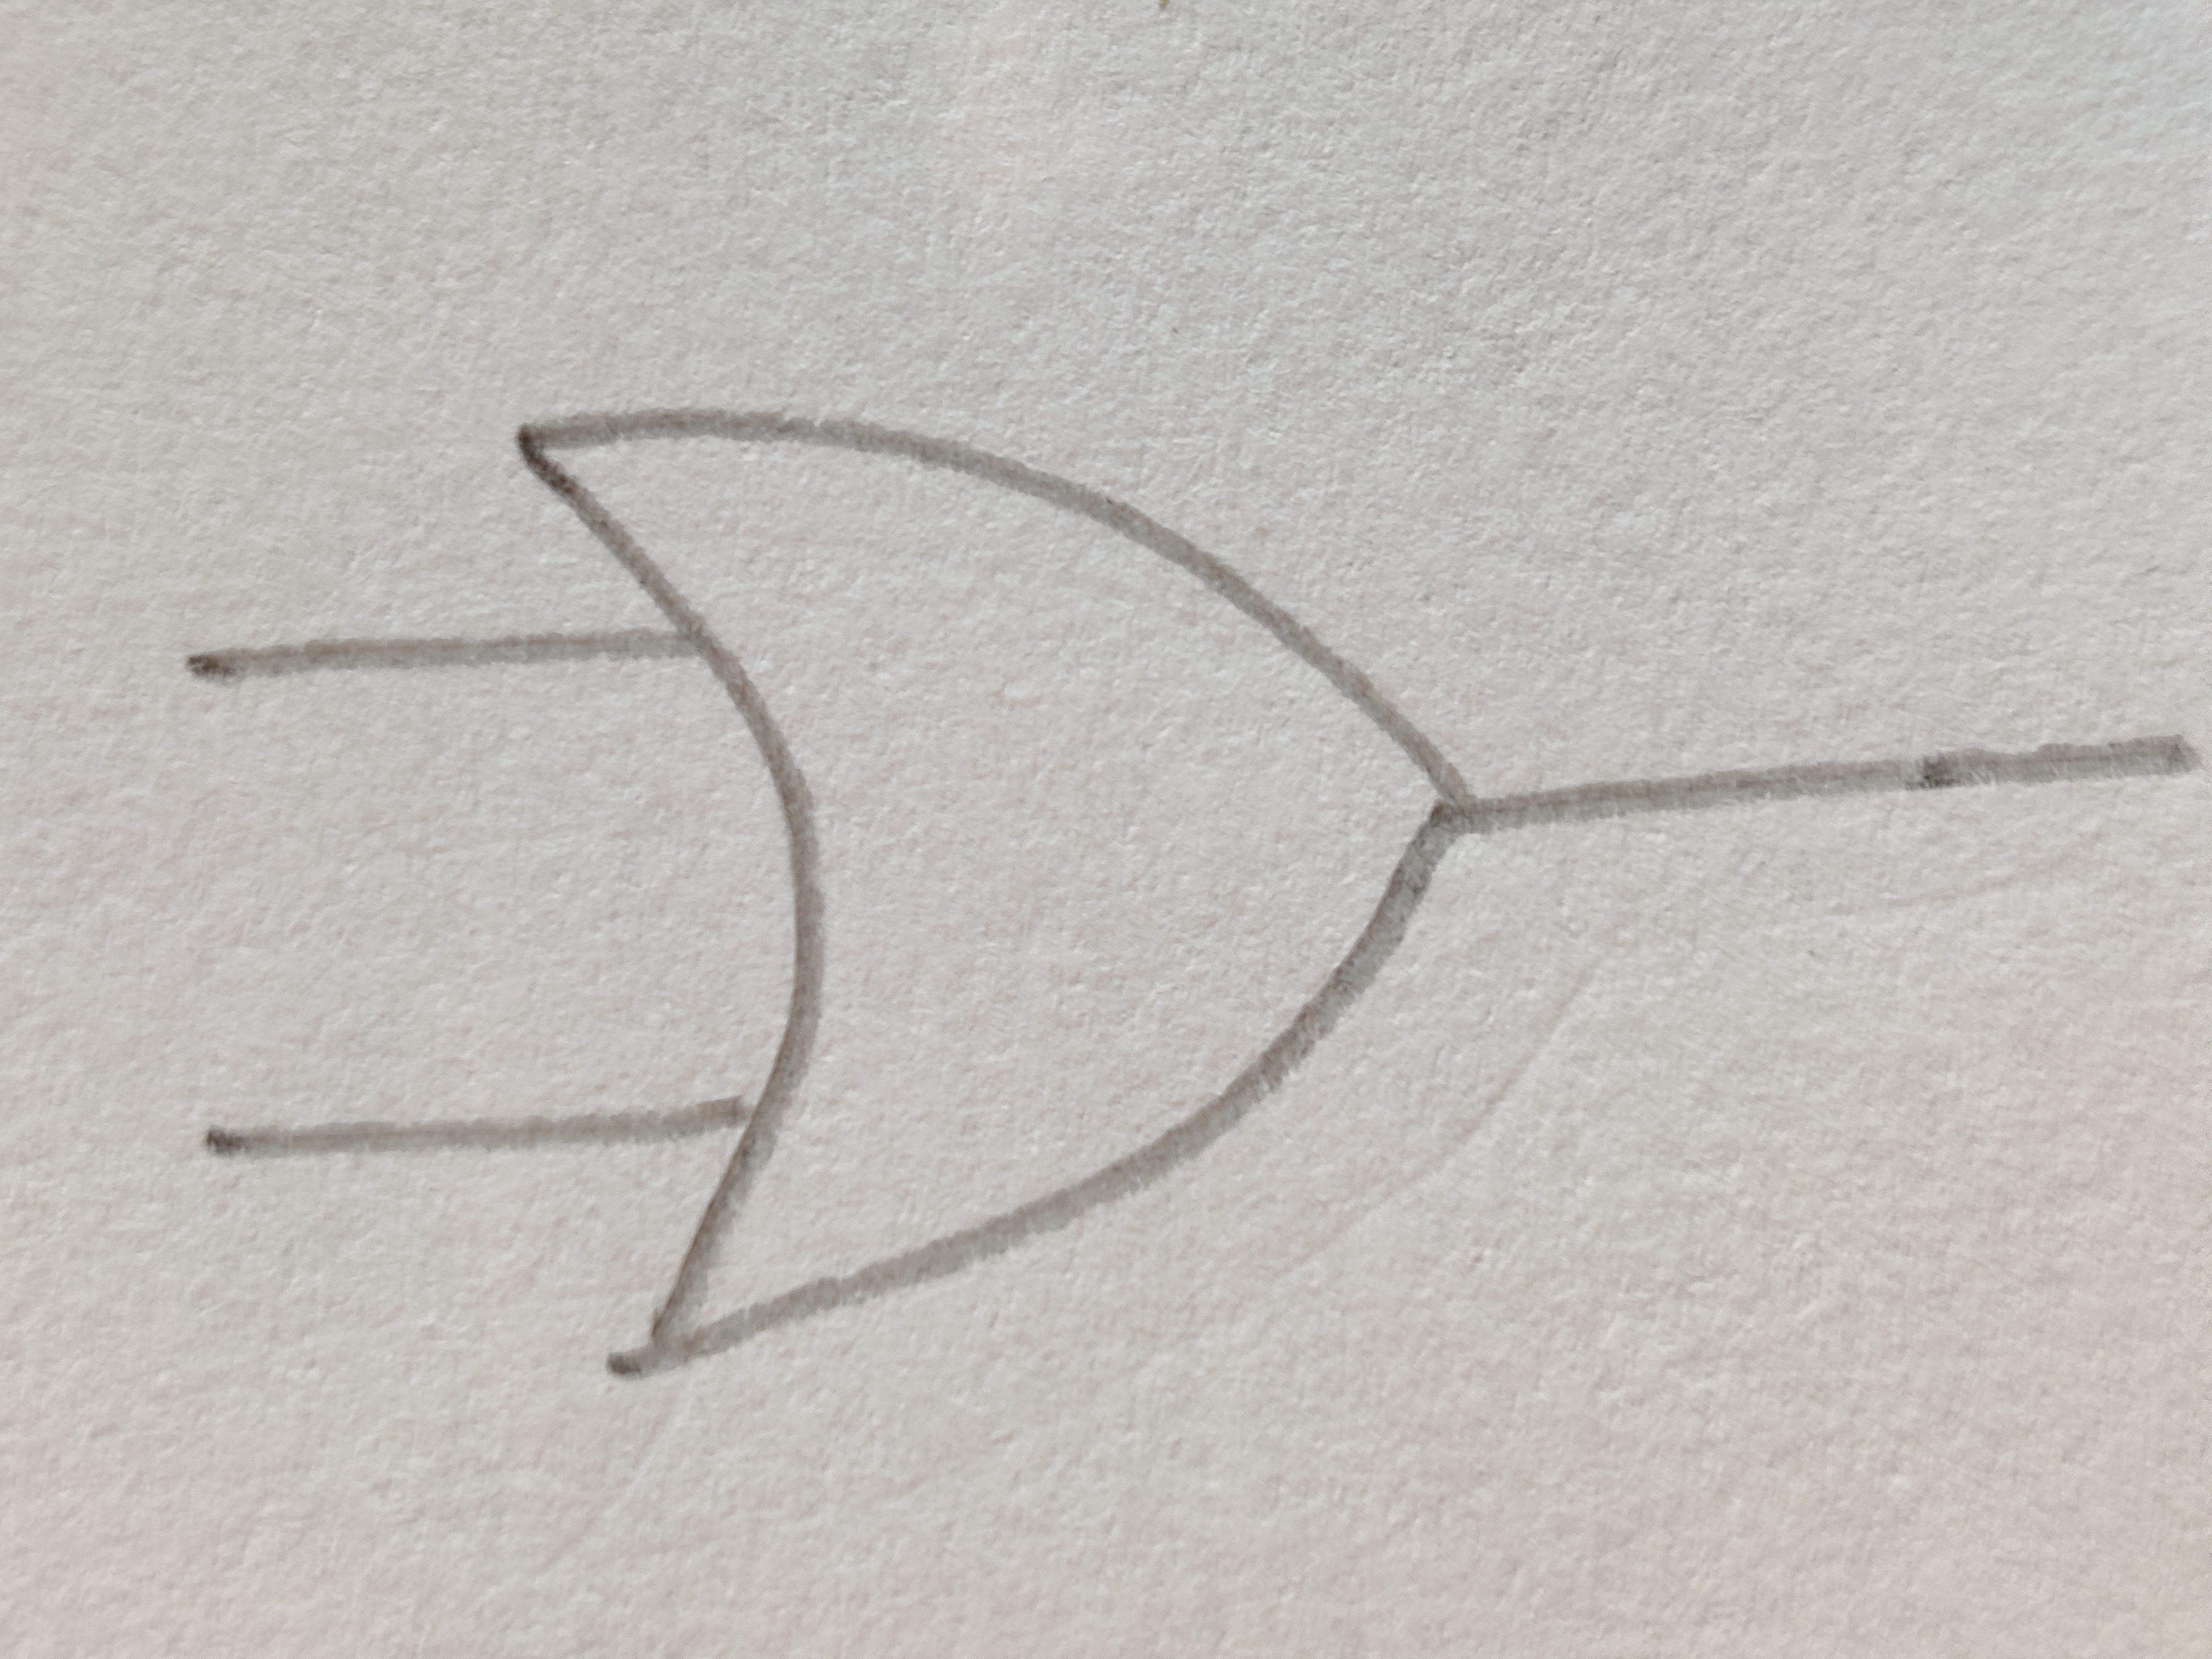or: (521, 413, 1467, 1361)
